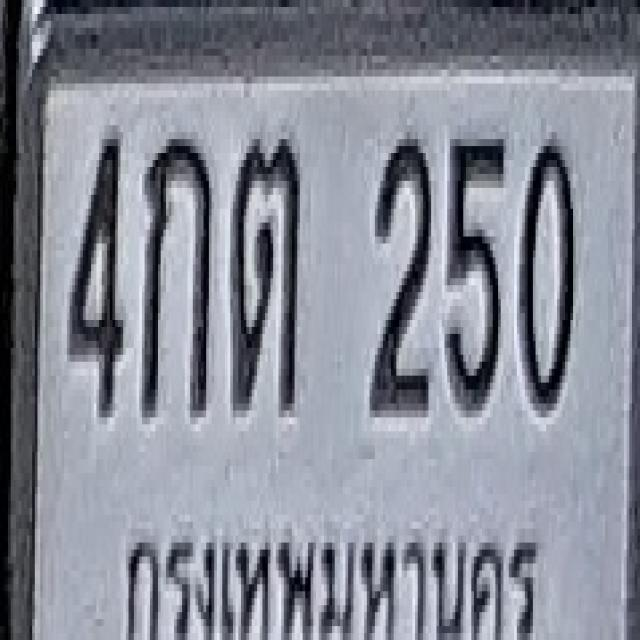-: (141, 129, 210, 414), (232, 132, 298, 411)
0: (518, 136, 574, 407)
2: (370, 132, 431, 411)
4: (67, 129, 123, 414)
5: (446, 132, 505, 411)
BKK: (110, 494, 557, 640)
